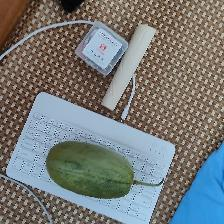gua: (32, 138, 151, 202)
